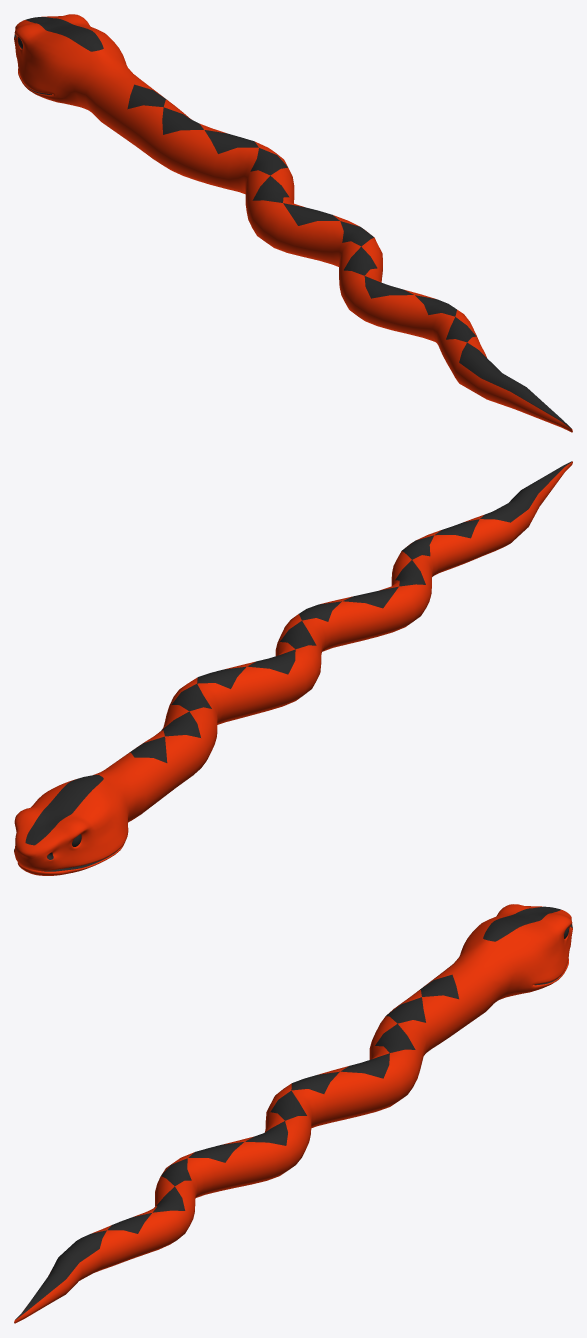
File: Snake.fbx
3 views of the same model, one above another, from view 1: azimuth 30°, elevation 25°; view 2: azimuth 150°, elevation 25°; view 3: azimuth 330°, elevation 25° (orthographic).
Parts seen in each view (by area): view 1: Snake; view 2: Snake; view 3: Snake.
Part boxes in pixels (<box>): Snake: <box>14,14,572,432</box>; Snake: <box>14,461,572,875</box>; Snake: <box>14,904,572,1323</box>.
Size of the model in its own units: 3.51 by 2.29 by 34.42.
